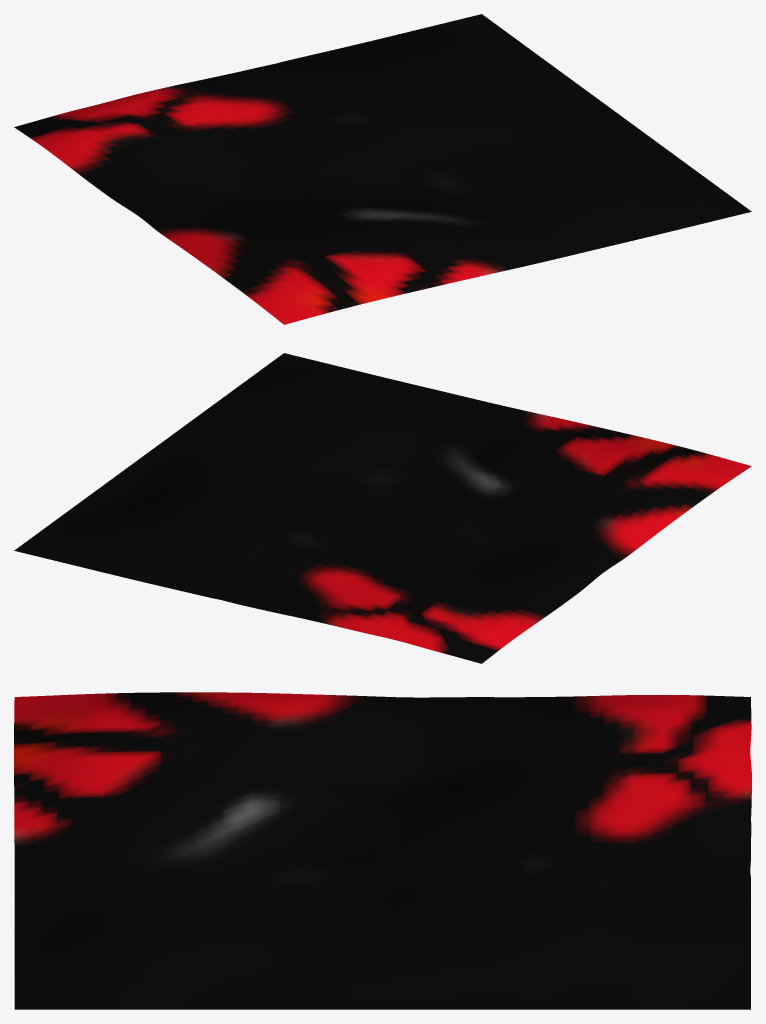
The model's file is ground.gltf.
The picture shows the model from 3 angles, top to bottom: view 1: azimuth 30°, elevation 25°; view 2: azimuth 150°, elevation 25°; view 3: azimuth 270°, elevation 25°; orthographic projection. The views are drawn at different scales.
Parts seen in each view (by area): view 1: Environnement; view 2: Environnement; view 3: Environnement.
Boxes of the visible parts, x1,y1,x2,y2 form: Environnement: (14, 14, 751, 324); Environnement: (14, 353, 751, 663); Environnement: (14, 692, 751, 1009).
Size of the model in its own units: 382 by 7.95 by 382.
